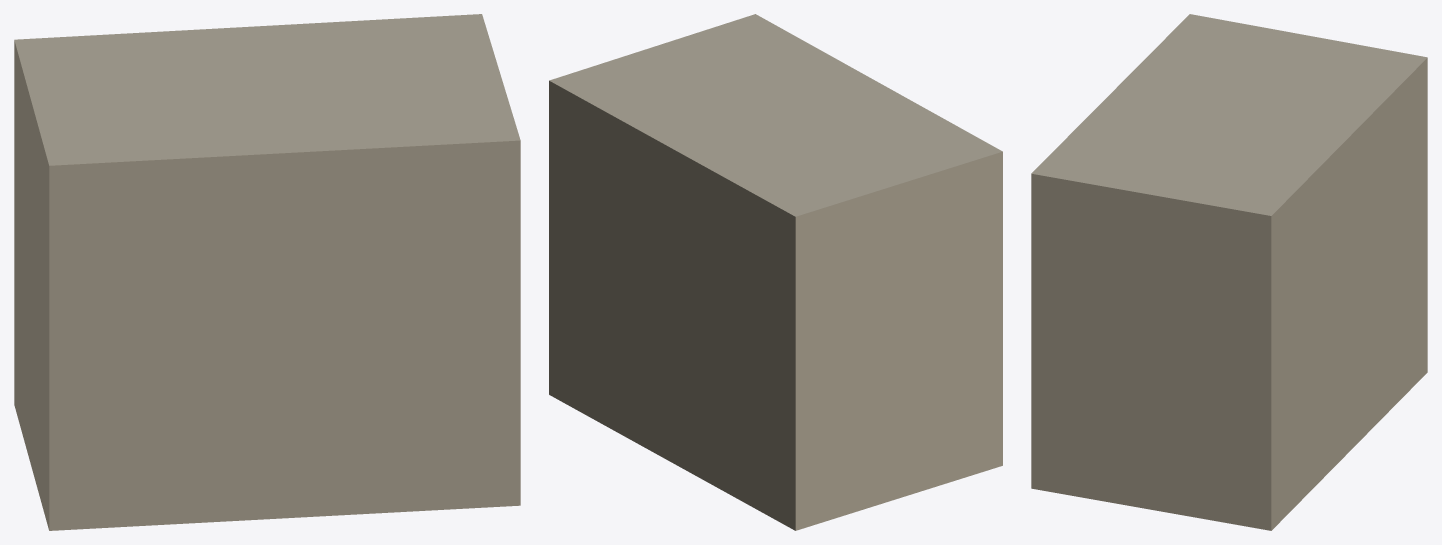
3 renders of one model, left to right at view 1: azimuth 30°, elevation 25°; view 2: azimuth 150°, elevation 25°; view 3: azimuth 270°, elevation 25°, orthographic. The views are drawn at different scales.
Visible parts, largest first — view 1: tuile; view 2: tuile; view 3: tuile.
Part boxes in pixels (bbox=[...]): tuile: bbox=[14, 14, 520, 530]; tuile: bbox=[549, 14, 1002, 530]; tuile: bbox=[1031, 14, 1427, 530].
Size of the model in its own units: 20.5 by 14.9 by 17.
